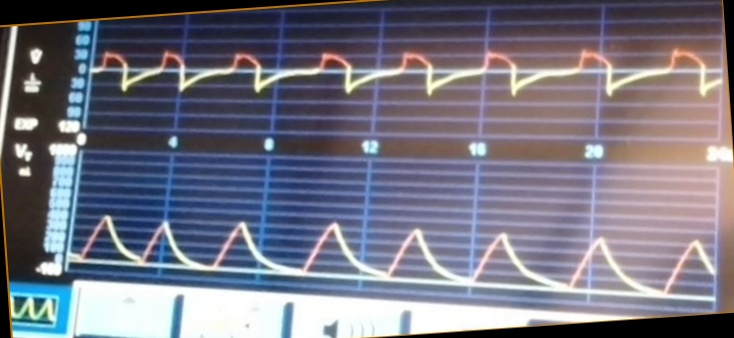Normal Flow: (97, 25, 722, 123)
Normal Volume: (74, 198, 713, 294)
